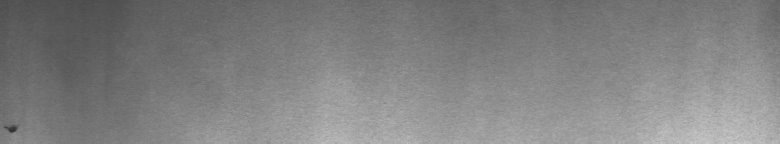fi: (4, 117, 21, 136)
